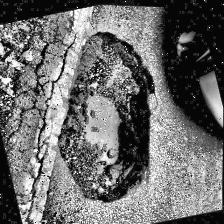pothole: (29, 15, 183, 214)
